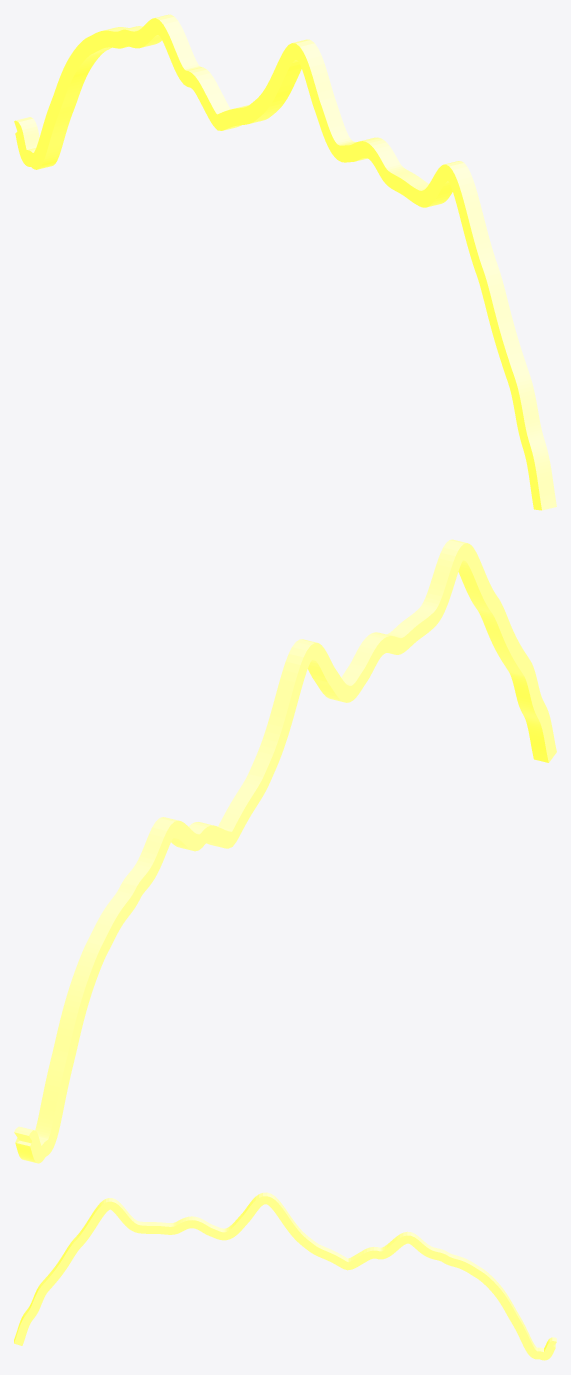
The model's file is electric trap.fbx.
3 views of the same model, one above another, from view 1: azimuth 30°, elevation 25°; view 2: azimuth 150°, elevation 25°; view 3: azimuth 270°, elevation 25° (orthographic). The views are drawn at different scales.
Parts seen in each view (by area): view 1: Cube; view 2: Cube; view 3: Cube.
Boxes of the visible parts, left/top/right/bottom form: Cube: left=14, top=14, right=556, bottom=510; Cube: left=14, top=539, right=556, bottom=1163; Cube: left=14, top=1192, right=556, bottom=1360.
Bounding box in the file's own units: 43.26 × 885 × 2652.
